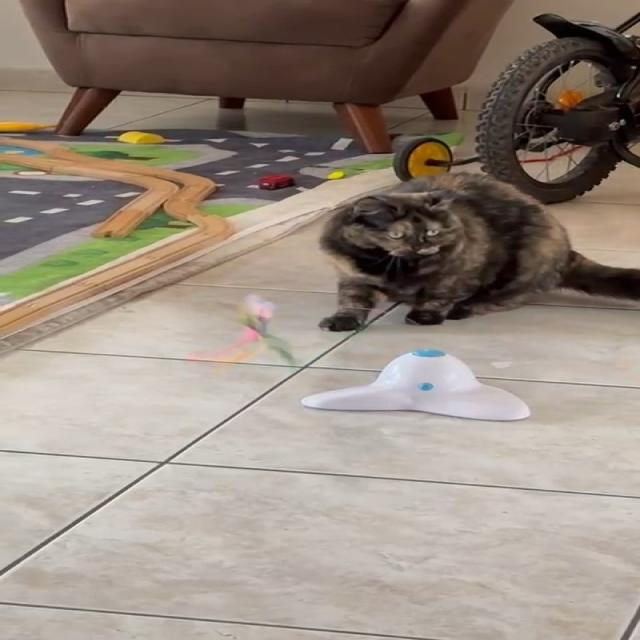authorized: (316, 170, 639, 332)
